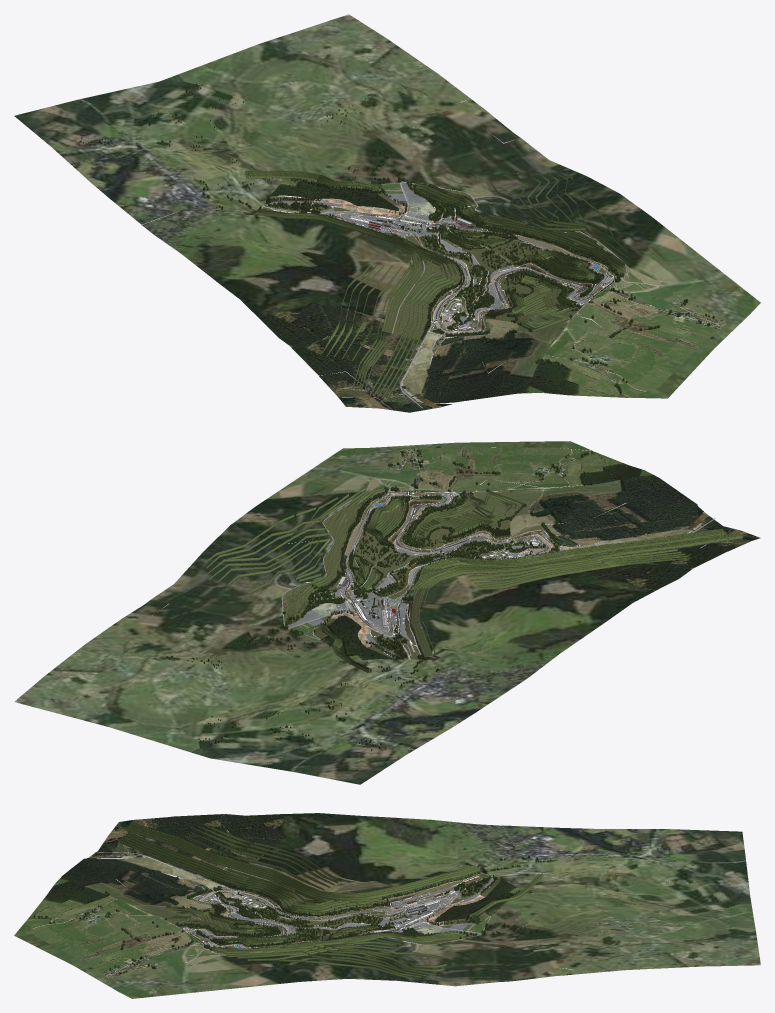
File: SUP_circuit_de_spa_francorchamps_2022_layout.glb
3 views of the same model, one above another, from view 1: azimuth 30°, elevation 25°; view 2: azimuth 150°, elevation 25°; view 3: azimuth 270°, elevation 25° (orthographic). The views are drawn at different scales.
Visible parts, largest first — view 1: SUP_circuit_de_spa_francorchamps_2022_layout; view 2: SUP_circuit_de_spa_francorchamps_2022_layout; view 3: SUP_circuit_de_spa_francorchamps_2022_layout.
Part boxes in pixels (x1,y1,x2,y2): SUP_circuit_de_spa_francorchamps_2022_layout: (14, 14, 760, 412); SUP_circuit_de_spa_francorchamps_2022_layout: (14, 441, 760, 784); SUP_circuit_de_spa_francorchamps_2022_layout: (14, 813, 760, 998).
Bounding box in the file's own units: 3222 × 197 × 5888.
73 materials, 72 textured.
